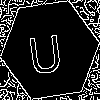U: (25, 25, 65, 76)
